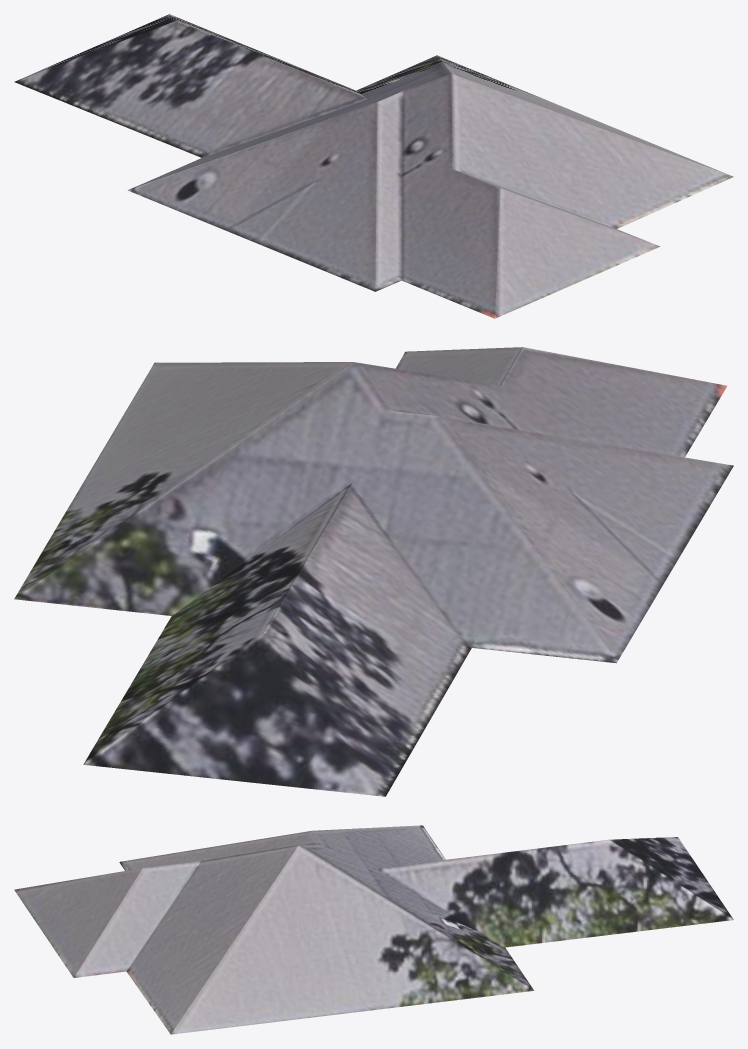
File: BK39_500_015030_0031_roof.obj
3 renders of one model, top to bottom at view 1: azimuth 30°, elevation 25°; view 2: azimuth 150°, elevation 25°; view 3: azimuth 270°, elevation 25°, orthographic. The views are drawn at different scales.
Visible parts, largest first — view 1: BK39_500_015030_0031_roof; view 2: BK39_500_015030_0031_roof; view 3: BK39_500_015030_0031_roof.
Part boxes in pixels (x1,y1,x2,y2): BK39_500_015030_0031_roof: (14,14,733,318); BK39_500_015030_0031_roof: (14,347,733,796); BK39_500_015030_0031_roof: (14,825,733,1034).
Size of the model in its own units: 331 by 70 by 482.
Materials: 1 (1 with a texture image).
